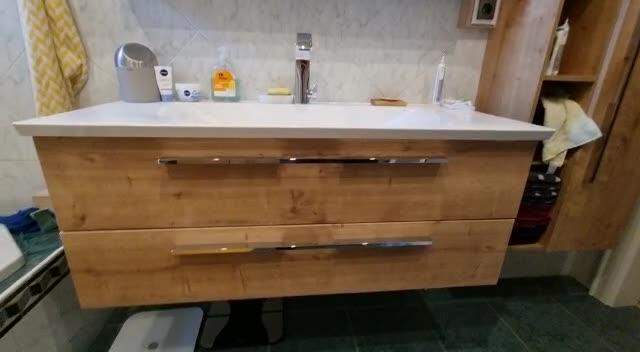cabinet_door: (46, 136, 527, 222), (59, 225, 508, 296)
handle: (160, 229, 438, 261), (152, 151, 457, 169)
